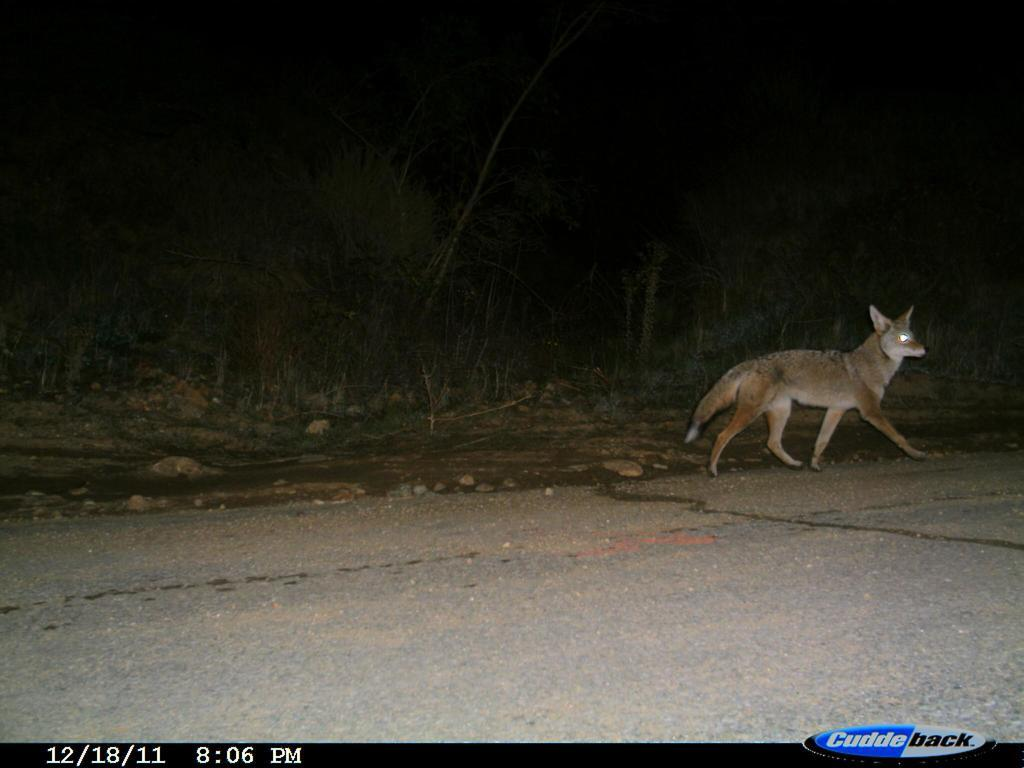coyote: (679, 299, 935, 488)
